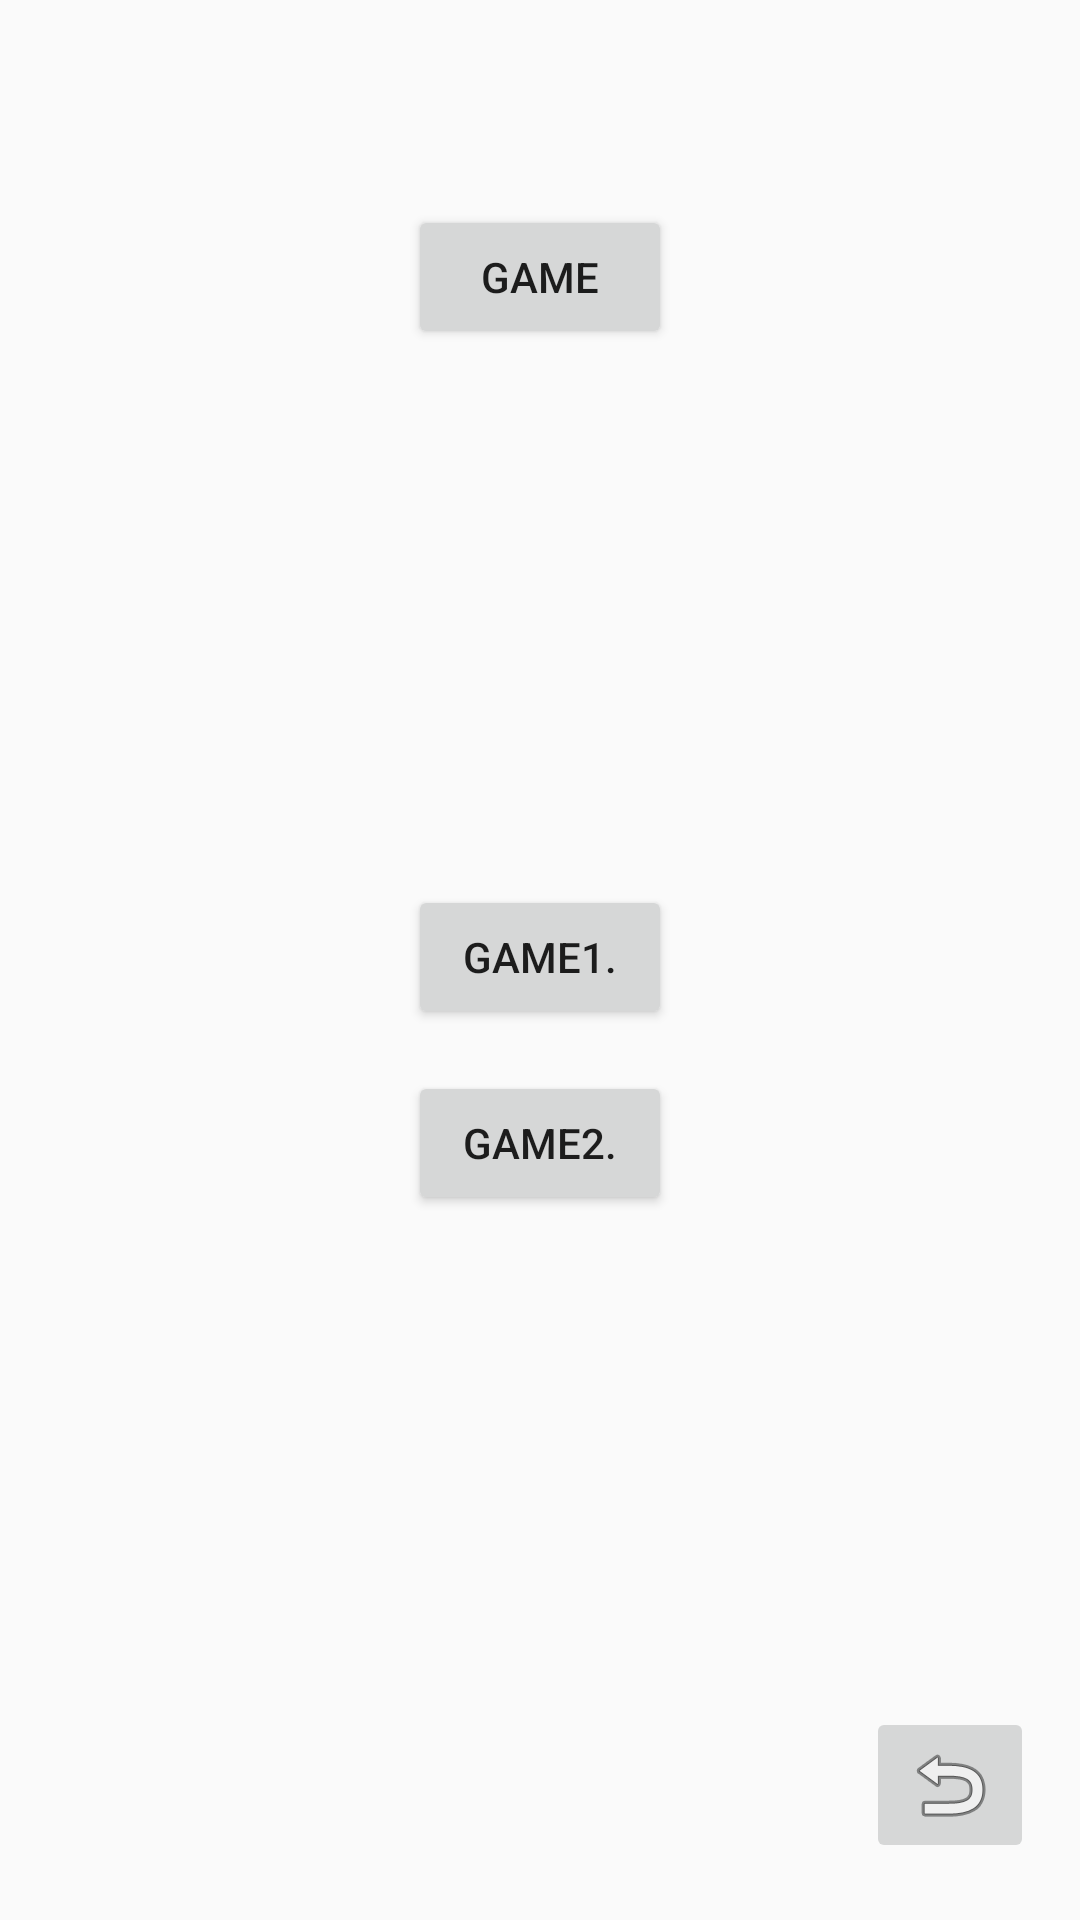

Icon click points for this 1080 × 1920 phone screenshot, format [x,y]:
revert: [950,1785]
